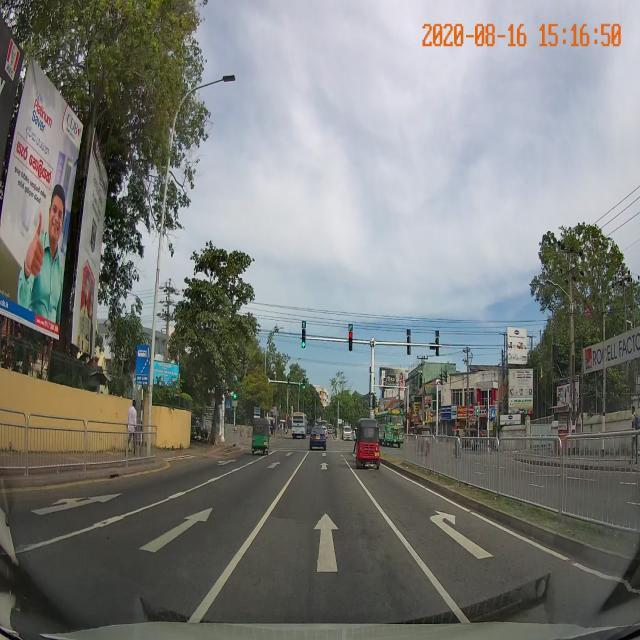forward: (214, 499, 444, 587)
